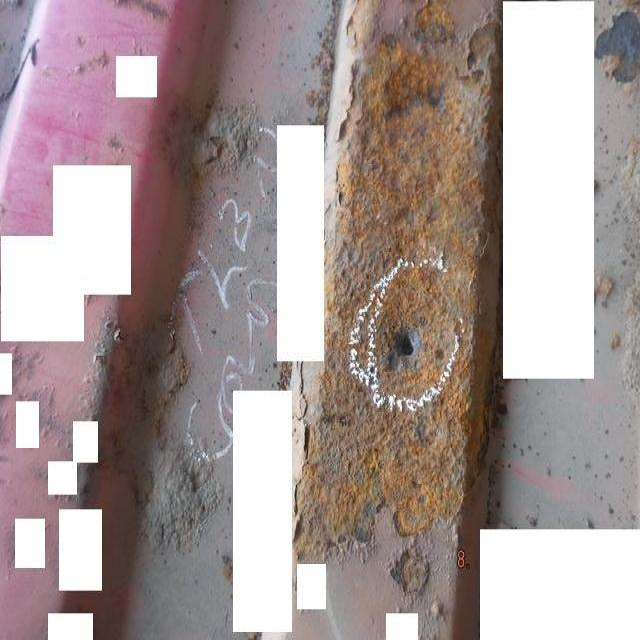rust: (289, 3, 506, 567), (118, 324, 225, 558), (186, 101, 259, 170), (594, 5, 640, 94), (389, 550, 431, 596)
